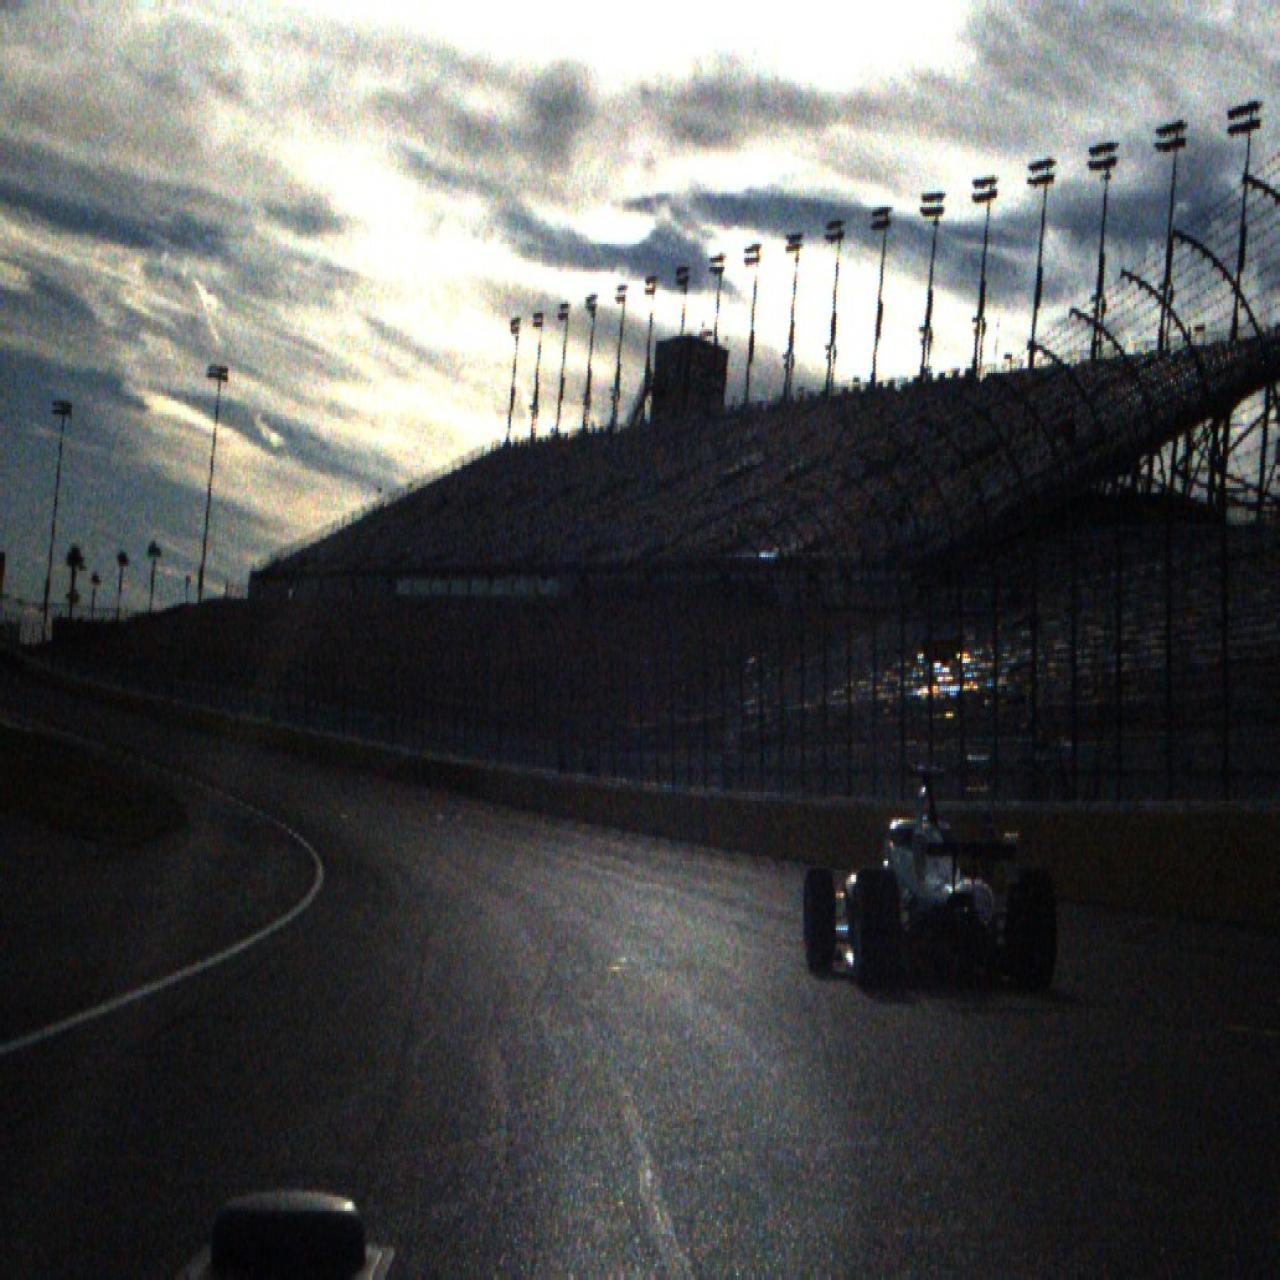AV: (802, 763, 1060, 1000)
Wheel: (1009, 867, 1060, 994), (853, 869, 900, 994), (803, 866, 836, 980)
